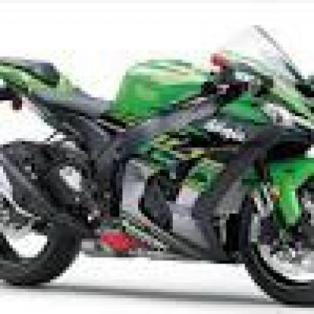Motocicleta: (0, 35, 311, 308)
